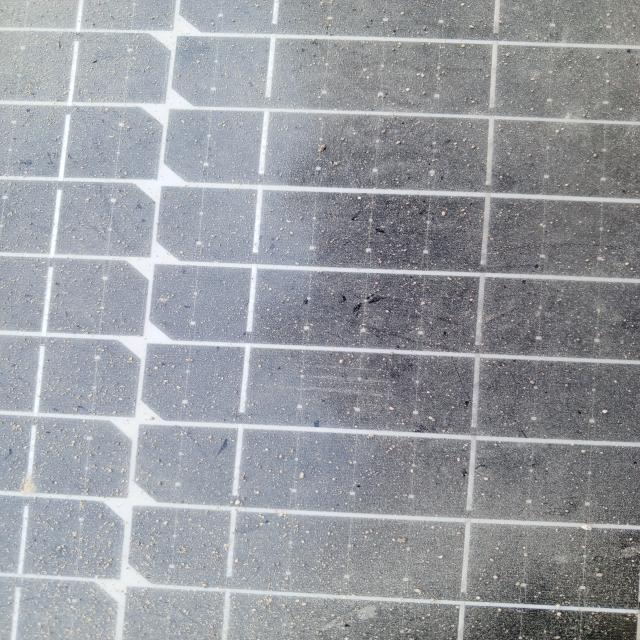Surface Contaminant: (31, 17, 639, 626)
